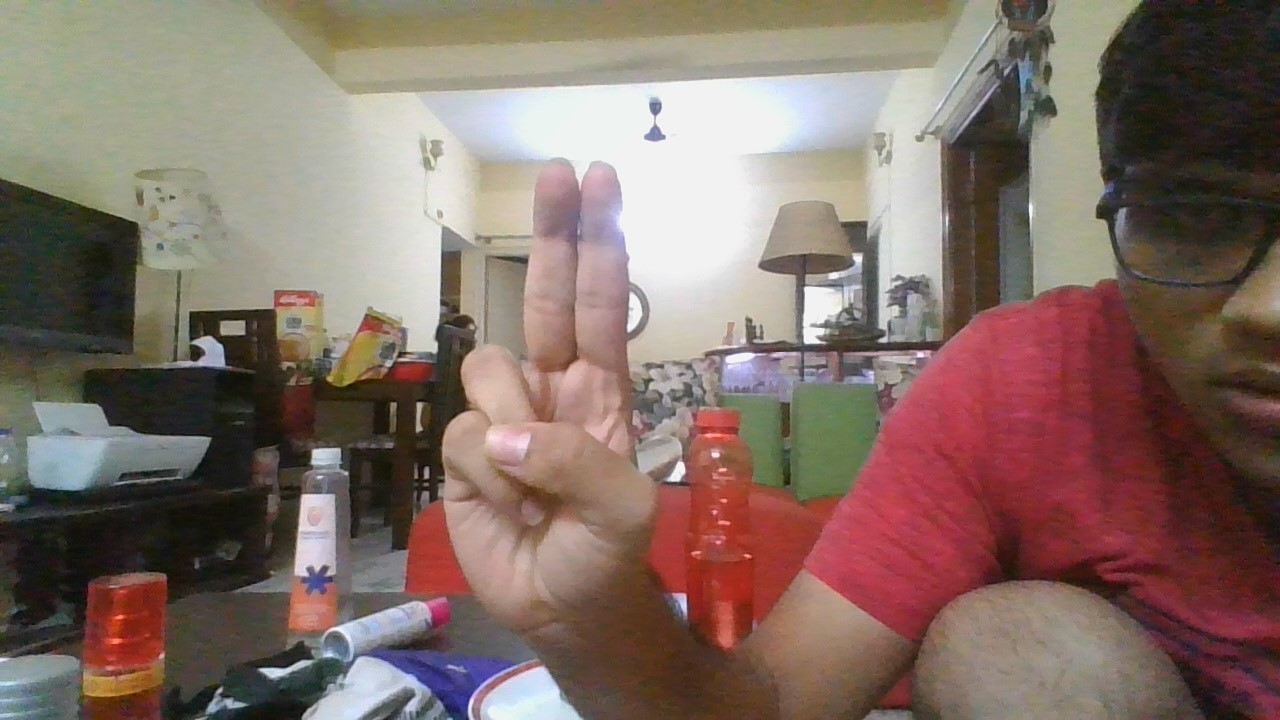u: (437, 155, 664, 638)
